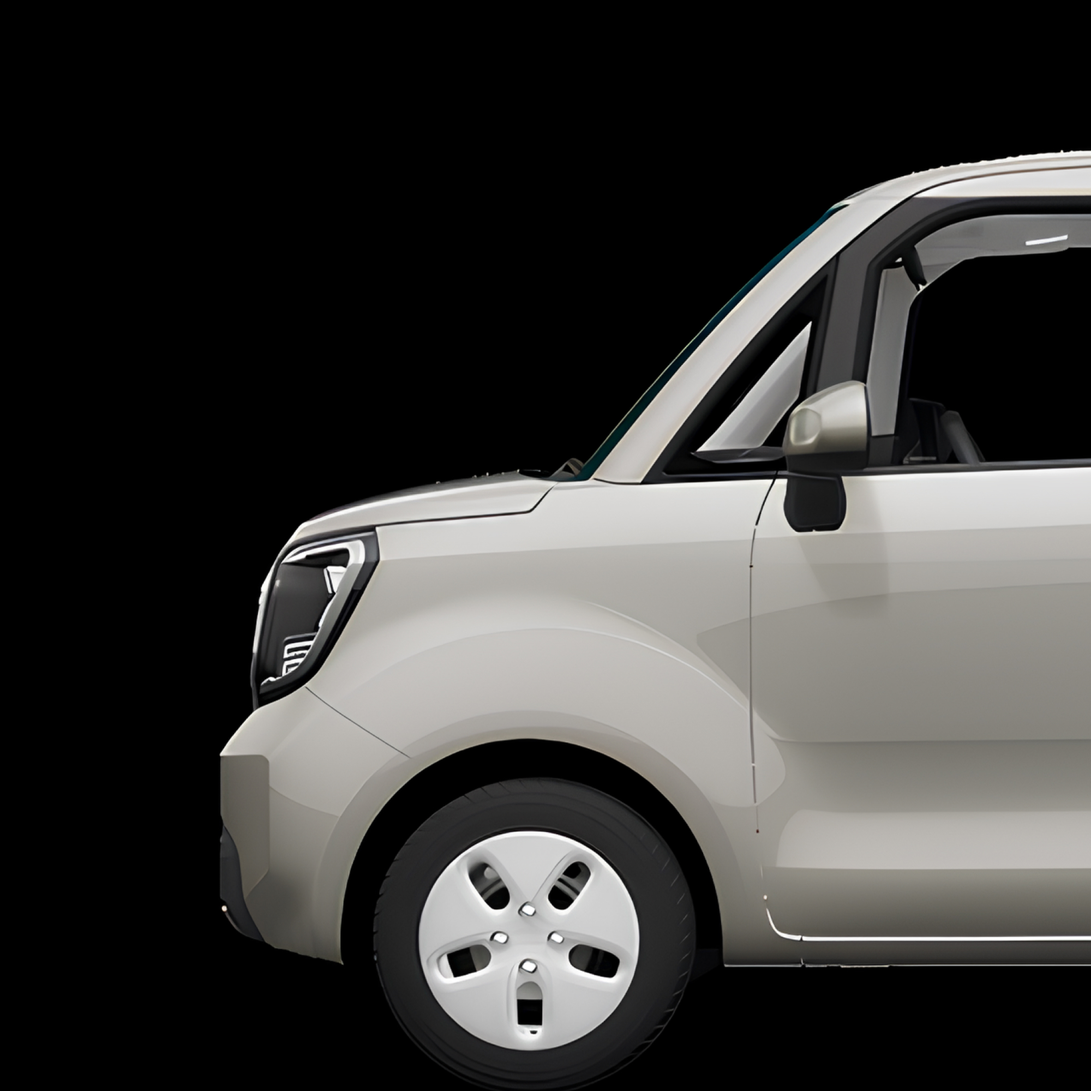side_mirror: (782, 380, 869, 535)
